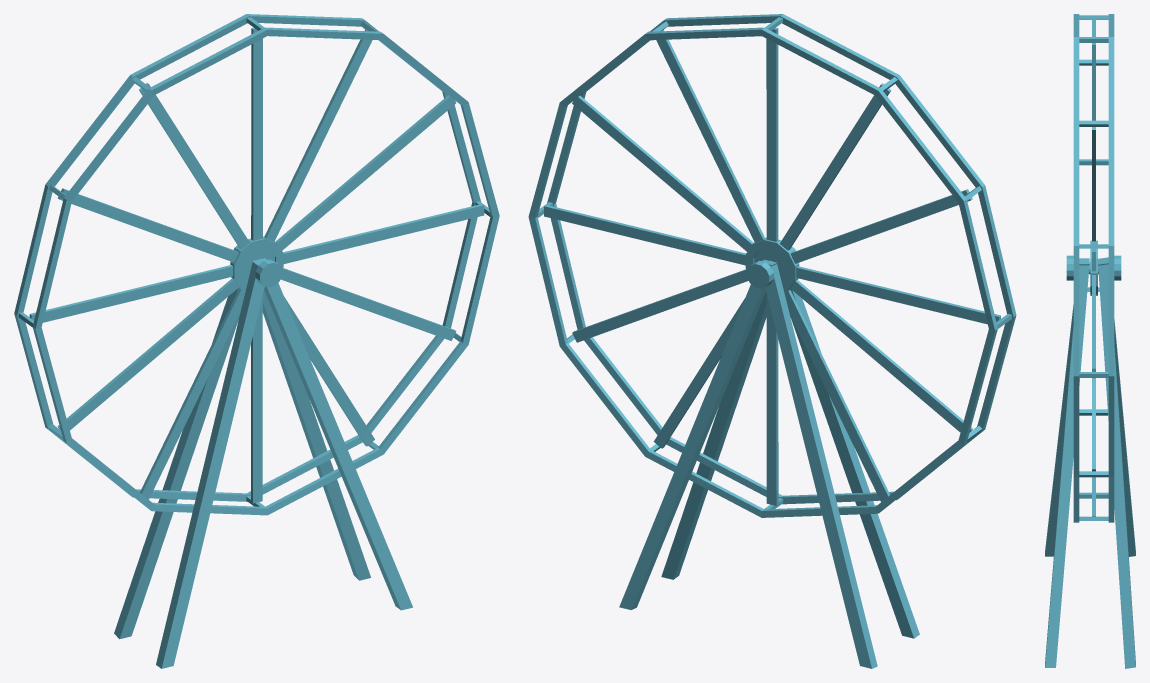
File: giant wheel.fbx
3 renders of one model, left to right at view 1: azimuth 30°, elevation 25°; view 2: azimuth 150°, elevation 25°; view 3: azimuth 270°, elevation 25°, orthographic. The views are drawn at different scales.
Visible parts, largest first — view 1: Cylinder.009; view 2: Cylinder.009; view 3: Cylinder.009.
Boxes of the visible parts, x1,y1,x2,y2 form: Cylinder.009: [14, 14, 499, 668]; Cylinder.009: [528, 14, 1016, 668]; Cylinder.009: [1045, 14, 1135, 668].
Size of the model in its own units: 89.23 by 110 by 15.87.
1 material, 1 textured.
